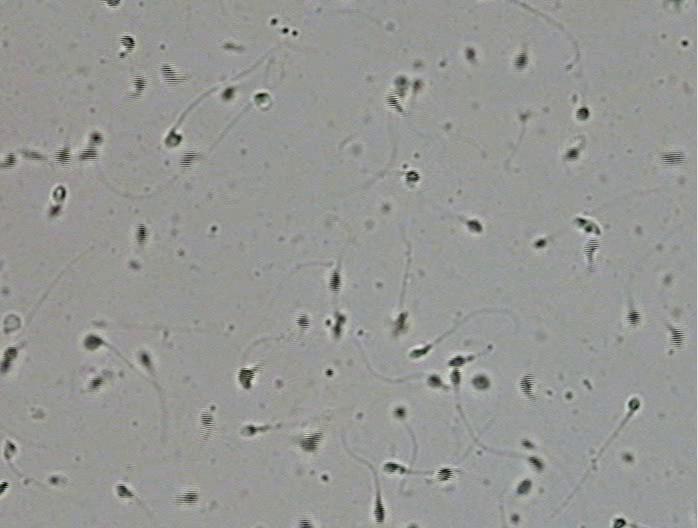S: (575, 217, 601, 235), (299, 432, 322, 452), (238, 367, 255, 390), (160, 64, 178, 85), (331, 313, 346, 338), (327, 271, 342, 294), (132, 74, 146, 98), (661, 152, 685, 166), (669, 328, 685, 349), (54, 147, 71, 166), (83, 335, 104, 350), (179, 151, 197, 168), (164, 131, 183, 147), (584, 239, 599, 259), (393, 313, 407, 334), (120, 35, 136, 53), (384, 92, 400, 110), (79, 146, 98, 161), (200, 411, 215, 430), (134, 224, 148, 244), (520, 375, 534, 395), (373, 500, 385, 523), (395, 76, 408, 97), (513, 52, 528, 70), (51, 185, 66, 203), (3, 440, 17, 459), (409, 346, 429, 359), (1, 152, 17, 168), (116, 483, 133, 498), (466, 219, 483, 234), (528, 456, 545, 471), (472, 375, 490, 388), (517, 479, 532, 494), (626, 310, 641, 325), (87, 132, 103, 146), (296, 313, 310, 329), (182, 490, 198, 504), (436, 468, 453, 481), (448, 355, 466, 367), (3, 347, 18, 361), (427, 374, 442, 388), (576, 106, 590, 121), (253, 93, 269, 106), (404, 170, 420, 183), (449, 368, 461, 385), (221, 87, 235, 101), (89, 376, 103, 390), (564, 148, 579, 161), (240, 425, 257, 436), (138, 352, 151, 366), (47, 205, 62, 217), (298, 517, 314, 528), (383, 462, 399, 473), (412, 79, 424, 92), (1, 359, 11, 374), (612, 518, 627, 528), (464, 48, 476, 60), (628, 398, 640, 410), (521, 439, 534, 450), (394, 407, 406, 418), (533, 238, 546, 248), (1, 481, 9, 495), (106, 1, 120, 8)
